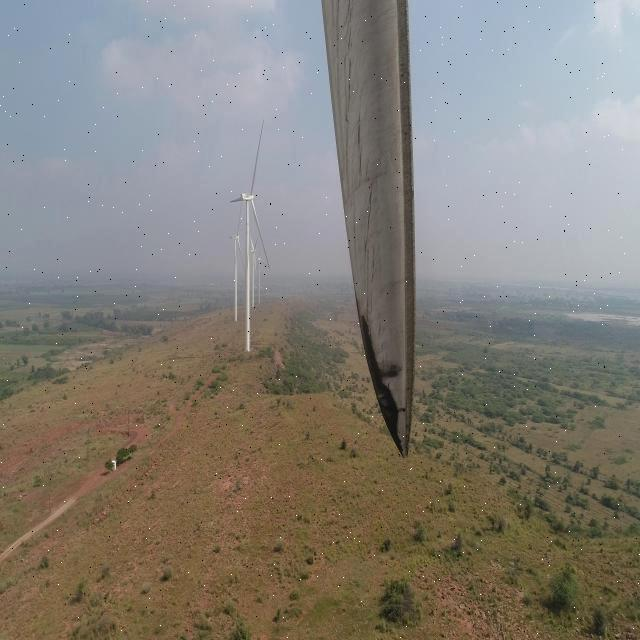Dirt: (317, 0, 420, 459)
Oil LEAKAGE: (358, 318, 408, 458)
Pin Hole: (399, 403, 410, 416)
